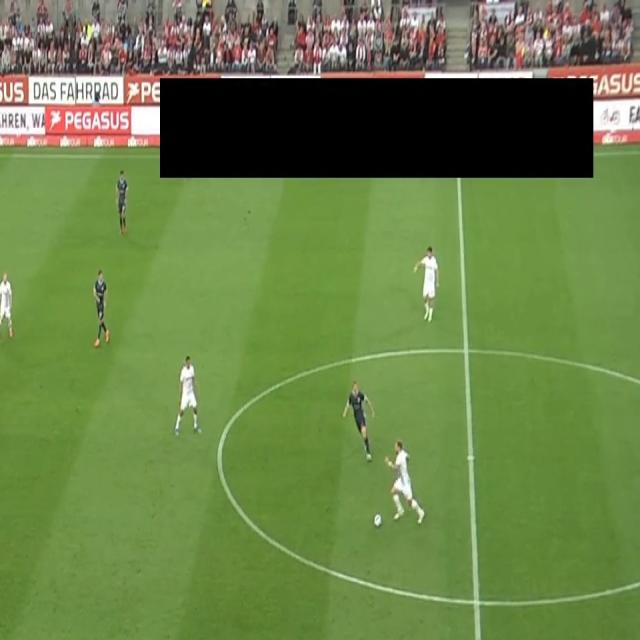ball: (373, 513, 383, 529)
